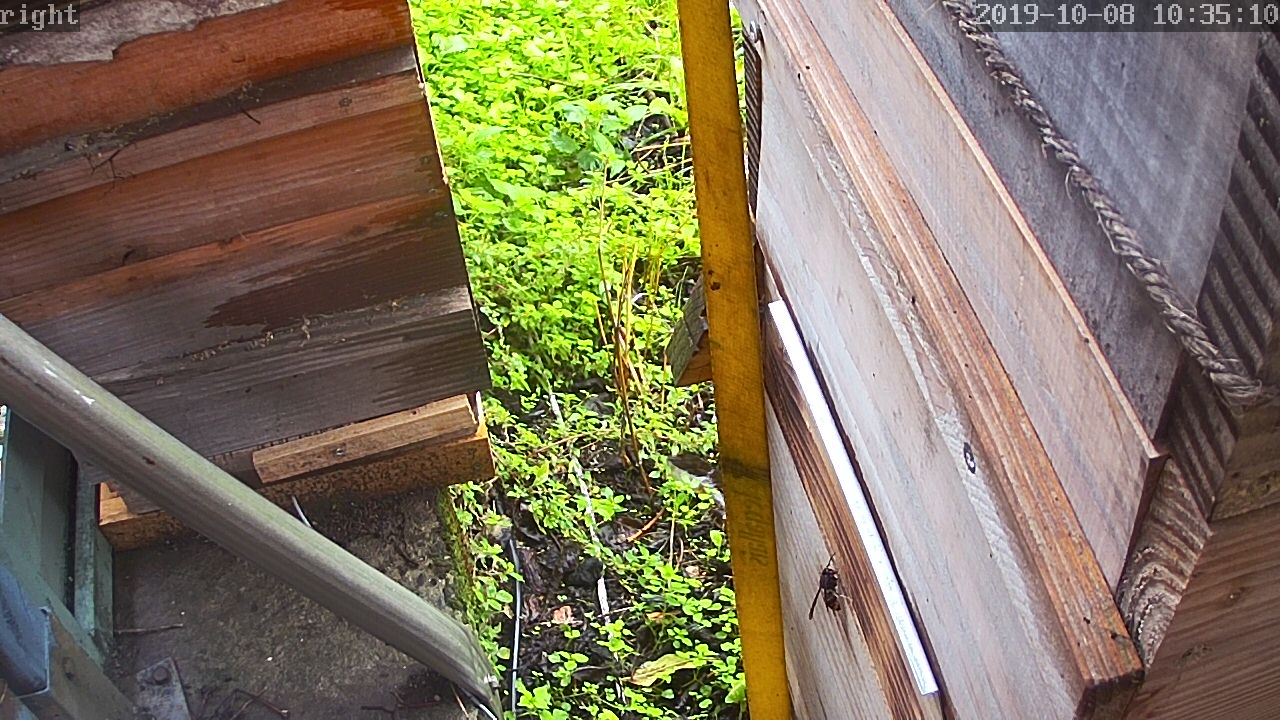bee: (805, 565, 857, 620)
hornet: (805, 565, 857, 620)
